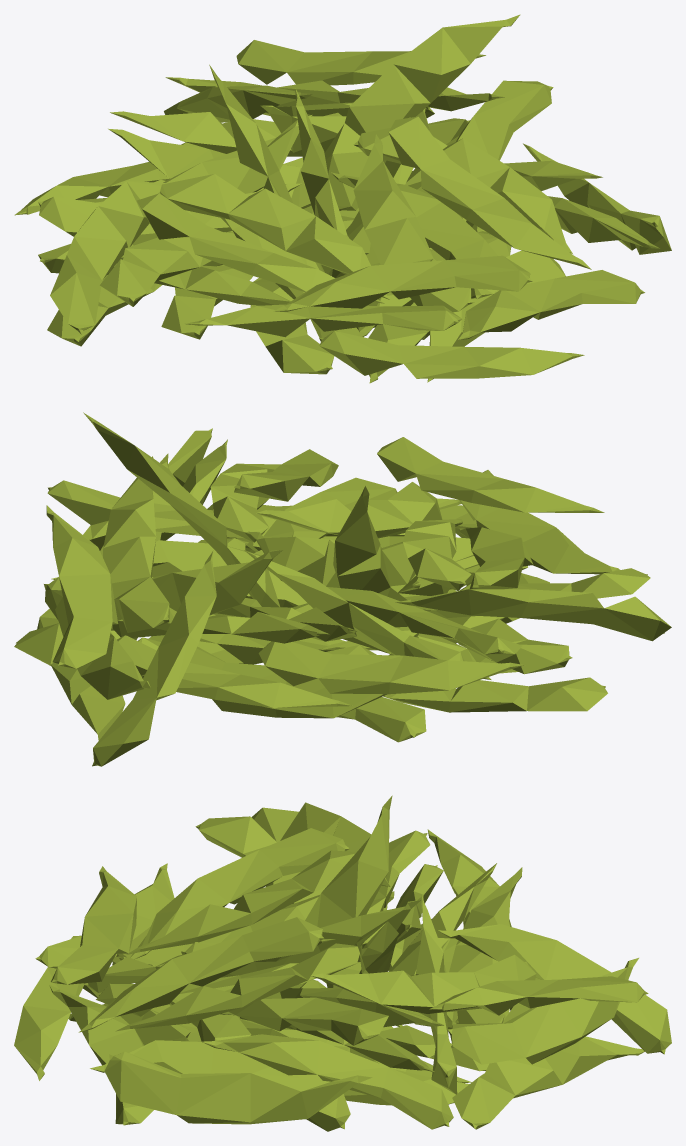
The model's file is bean_generic.fbx.
3 views of the same model, one above another, from view 1: azimuth 30°, elevation 25°; view 2: azimuth 150°, elevation 25°; view 3: azimuth 270°, elevation 25° (orthographic). The views are drawn at different scales.
Parts seen in each view (by area): view 1: beans_generic; view 2: beans_generic; view 3: beans_generic.
Part boxes in pixels (x1,y1,x2,y2): beans_generic: (14, 14, 671, 383); beans_generic: (14, 412, 671, 766); beans_generic: (14, 795, 671, 1131).
Size of the model in its own units: 859 by 310 by 916.
